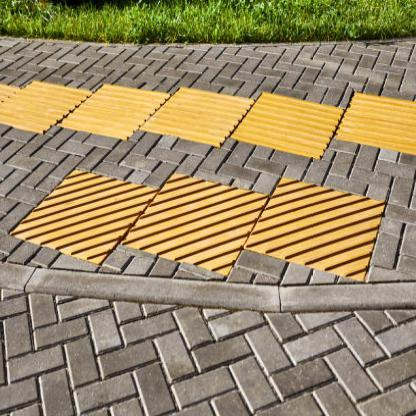podotacti: (9, 166, 385, 282), (0, 80, 414, 161)
